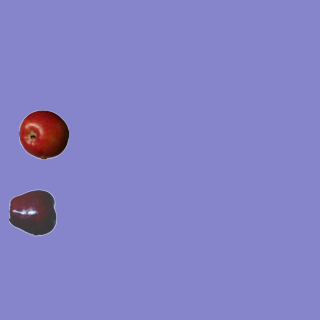Apple Braeburn: (18, 109, 68, 159)
Apple Red Delicious: (8, 187, 58, 237)
